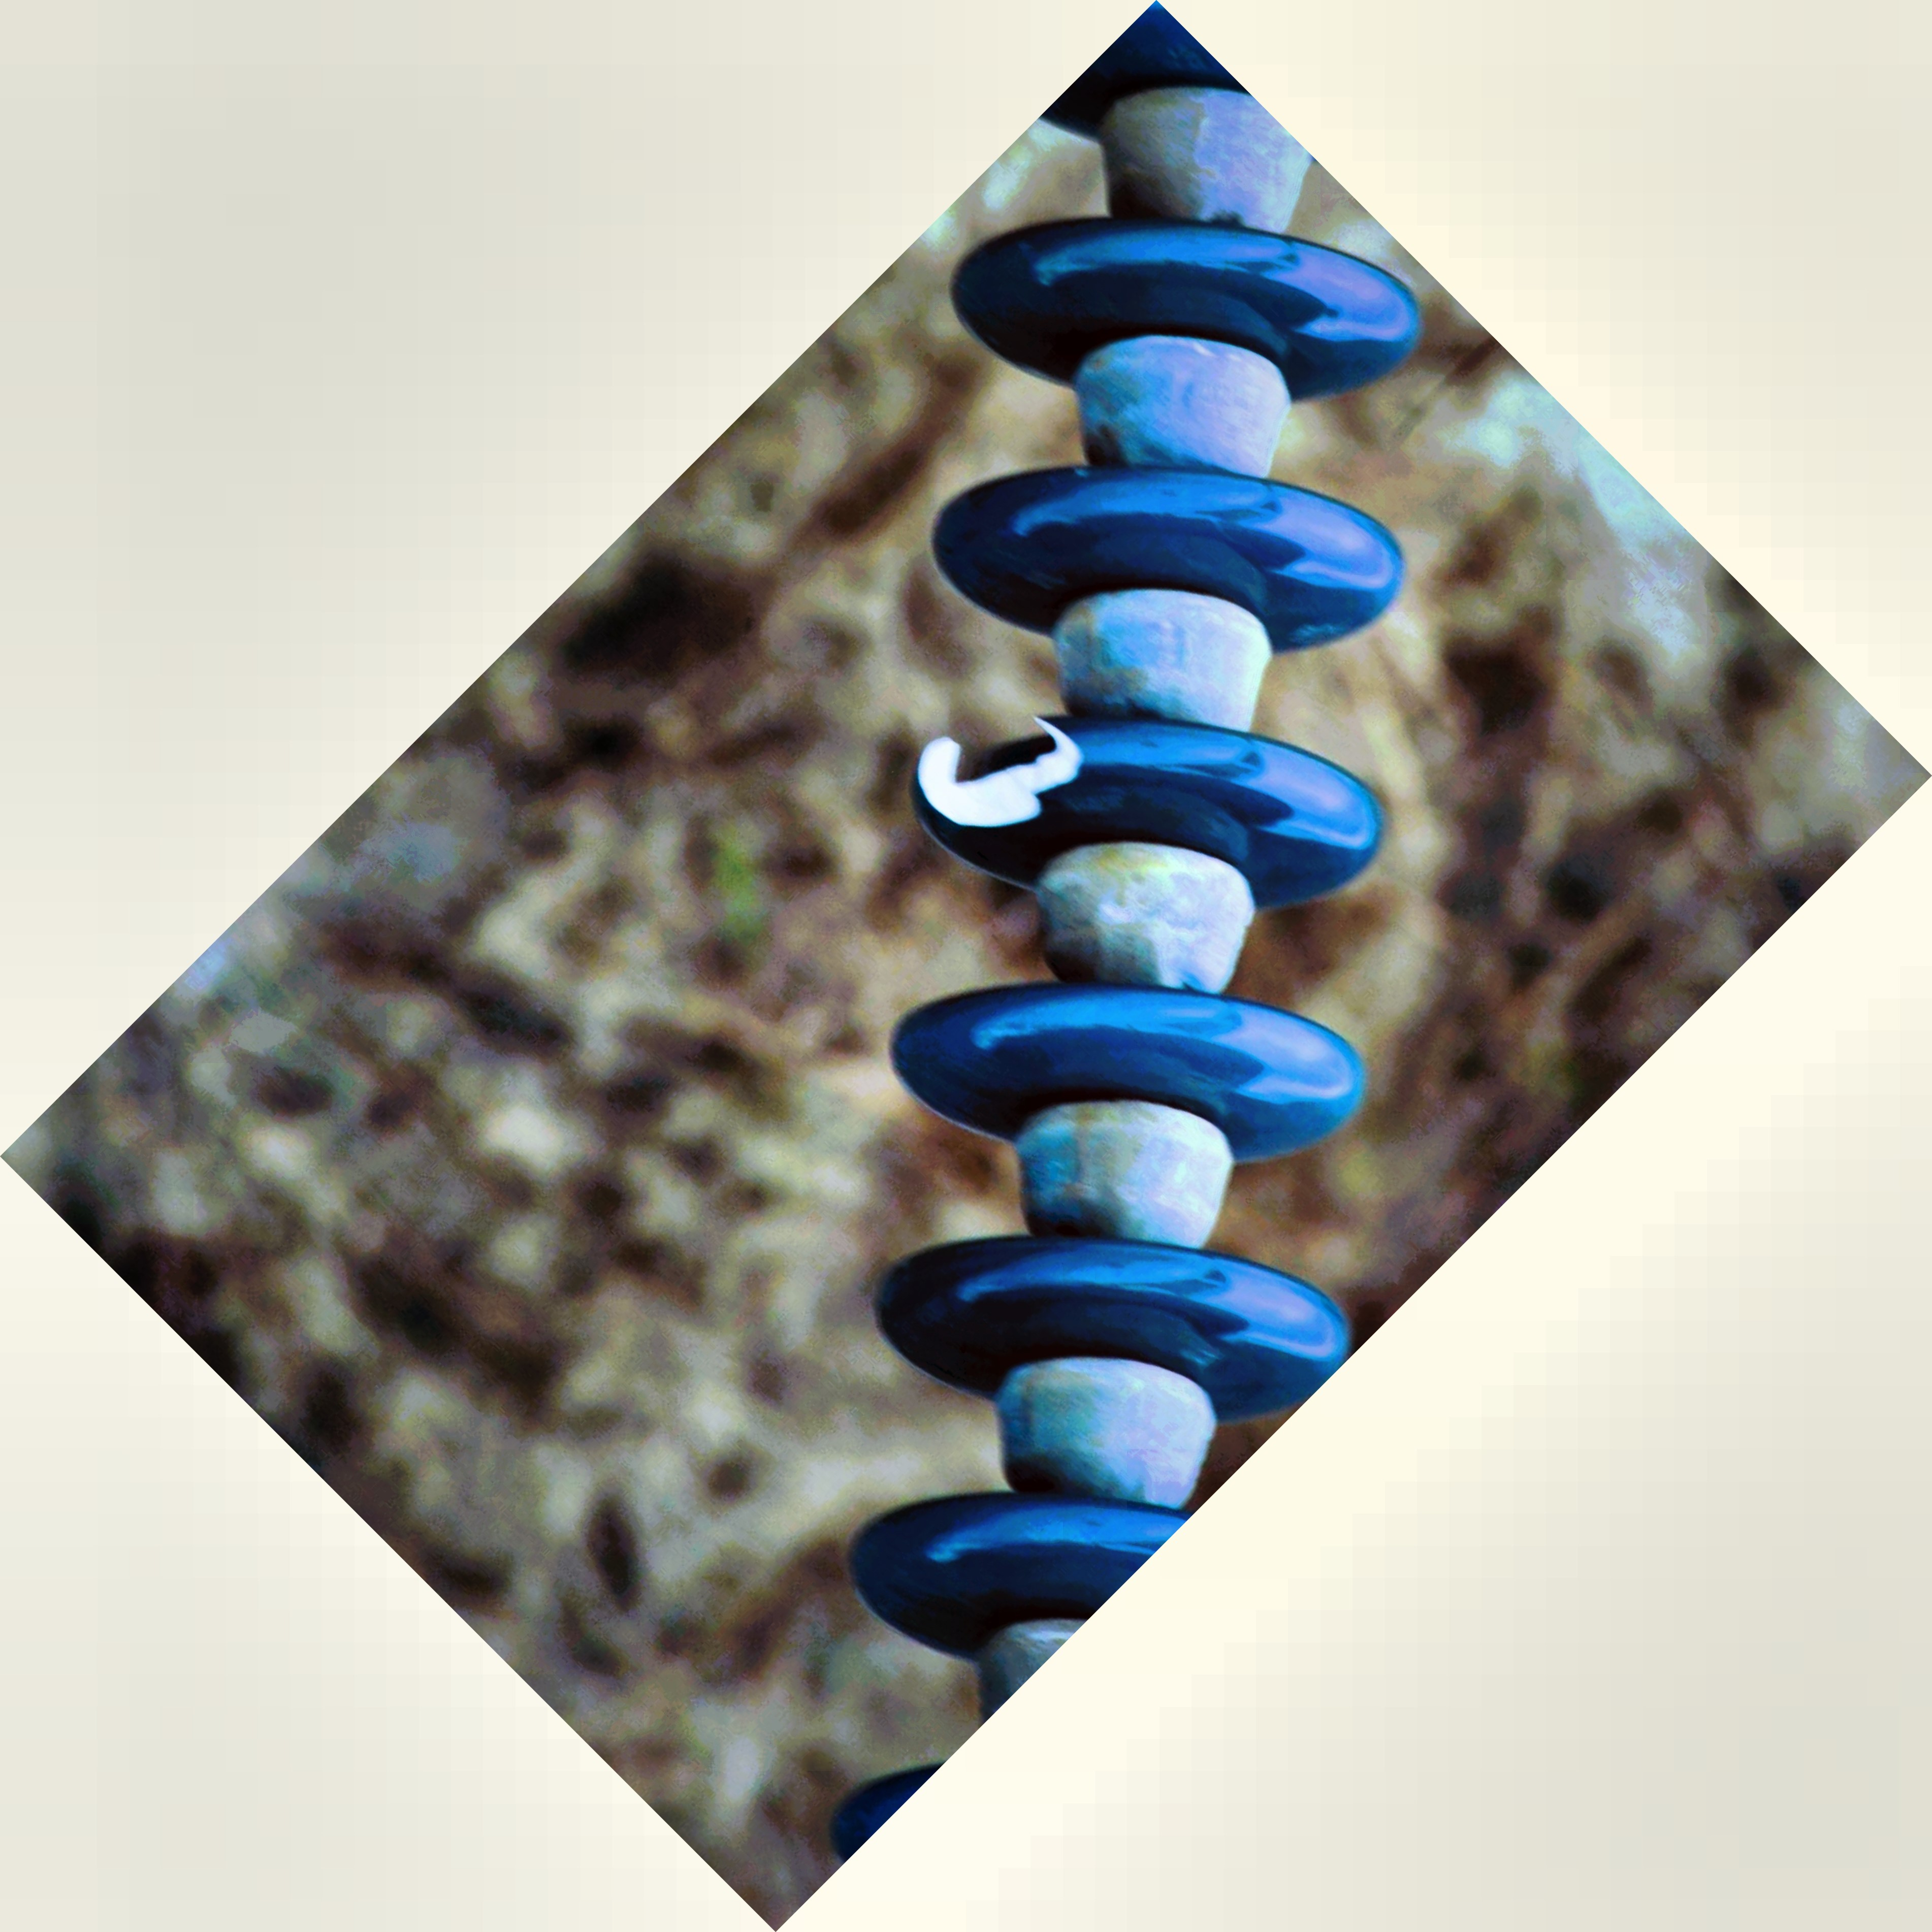insulator breakage: (901, 692, 1408, 938)
